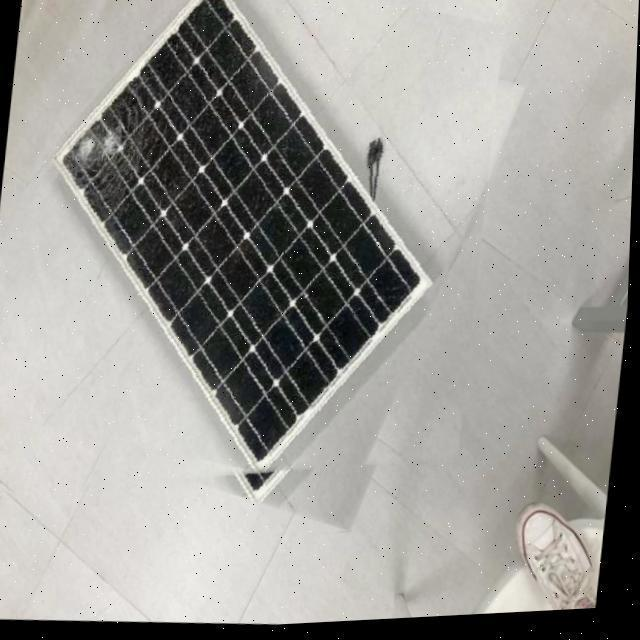Structural Damage: (62, 92, 160, 220)
